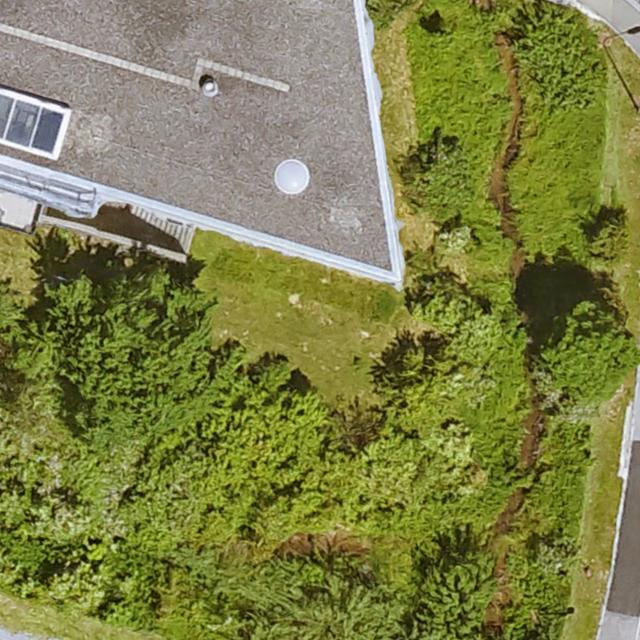tree: (61, 274, 213, 426), (536, 308, 635, 403), (273, 574, 401, 640), (405, 556, 494, 640), (383, 343, 452, 407), (16, 319, 68, 380)
